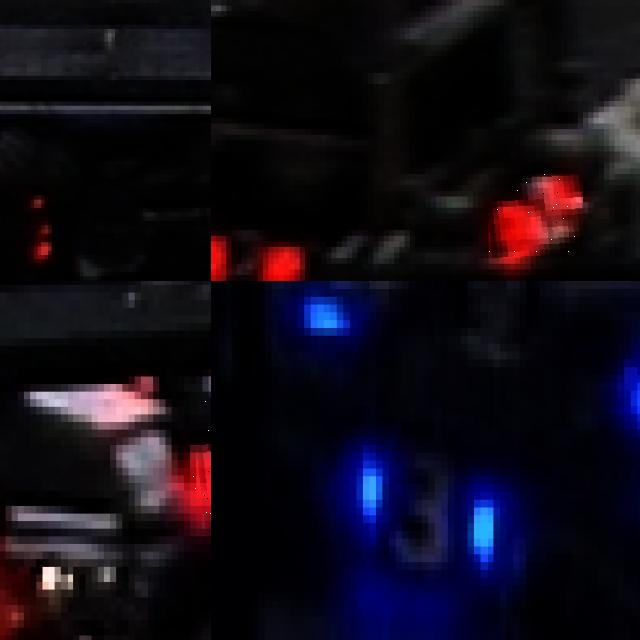B3: (324, 430, 513, 586)
R1: (189, 391, 211, 544)
R2: (483, 174, 583, 258), (211, 219, 294, 281)
